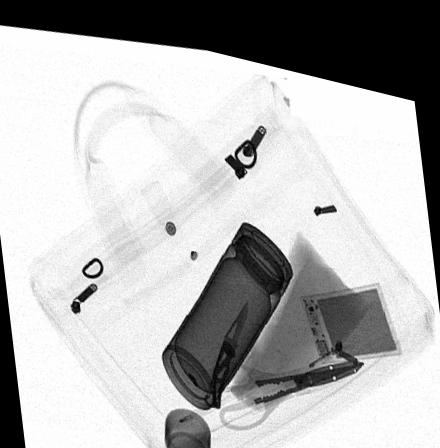Knife: (203, 284, 251, 401)
Powerbank: (297, 262, 406, 351)
Scissors: (209, 343, 365, 420)
